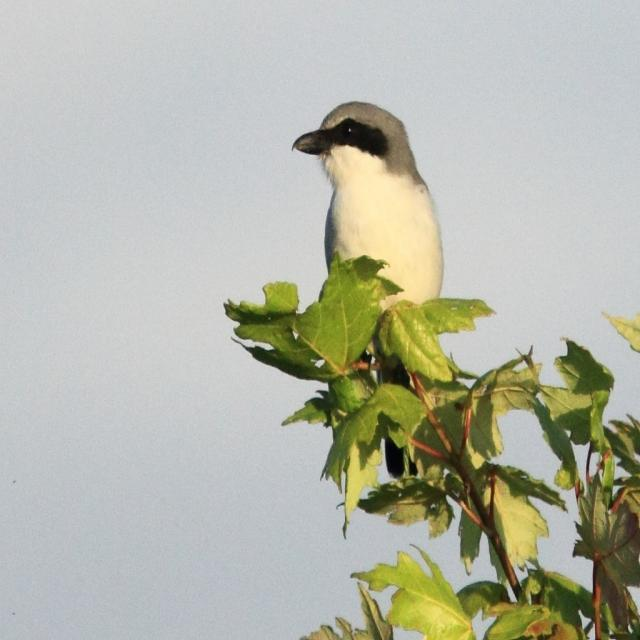bird: (291, 81, 451, 352)
